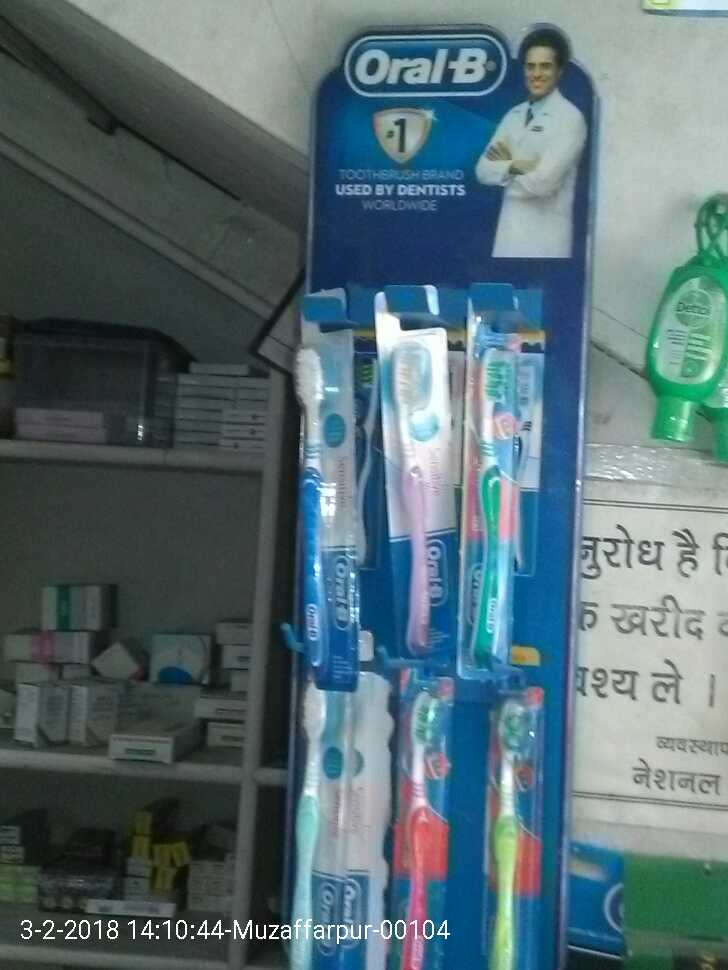oralb: (369, 289, 466, 660), (280, 307, 357, 663), (465, 303, 520, 683), (468, 683, 540, 970)
